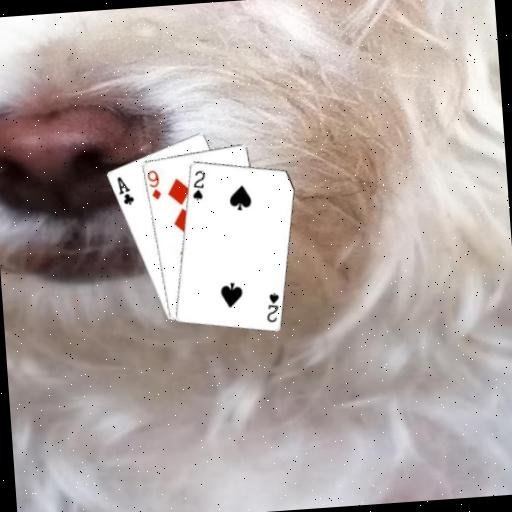2S: (188, 167, 208, 202), (262, 289, 282, 324)
9D: (144, 167, 163, 202)
AC: (114, 173, 136, 207)
